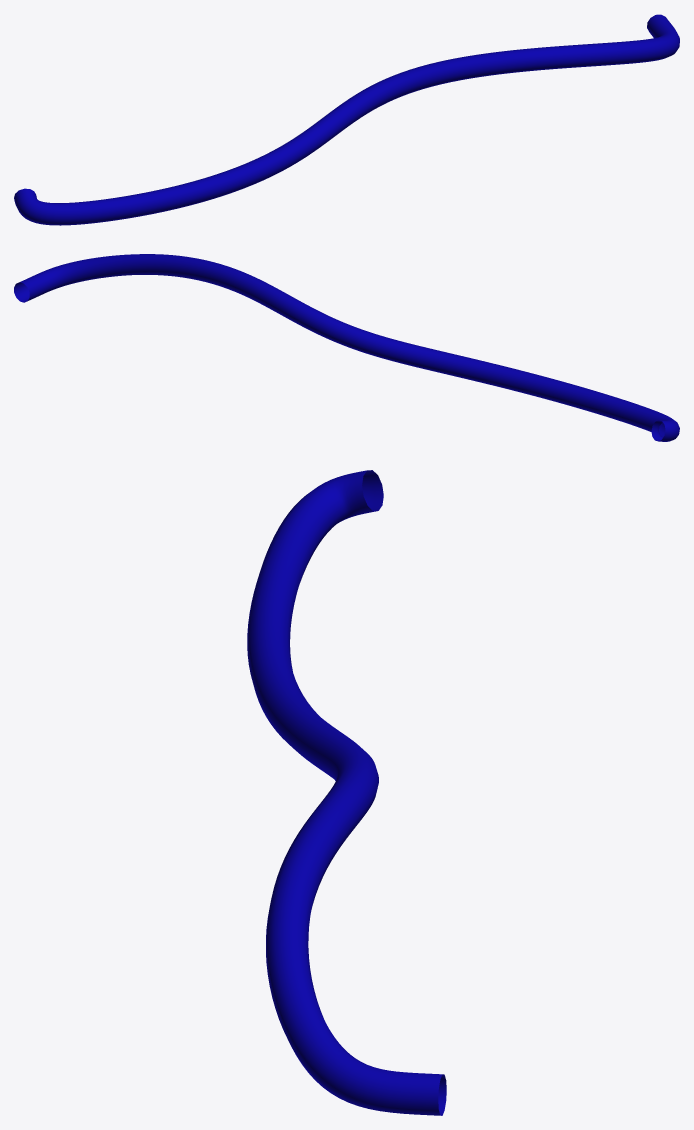
File: BlueWire.fbx
The picture shows the model from 3 angles, top to bottom: view 1: azimuth 30°, elevation 25°; view 2: azimuth 150°, elevation 25°; view 3: azimuth 270°, elevation 25°; orthographic projection. The views are drawn at different scales.
Parts seen in each view (by area): view 1: NurbsPath; view 2: NurbsPath; view 3: NurbsPath.
Boxes of the visible parts, bbox=[...] form: NurbsPath: bbox=[14, 14, 679, 225]; NurbsPath: bbox=[14, 254, 679, 441]; NurbsPath: bbox=[247, 470, 446, 1115].
Bounding box in the file's own units: 57.01 × 5.29 × 7.7.
